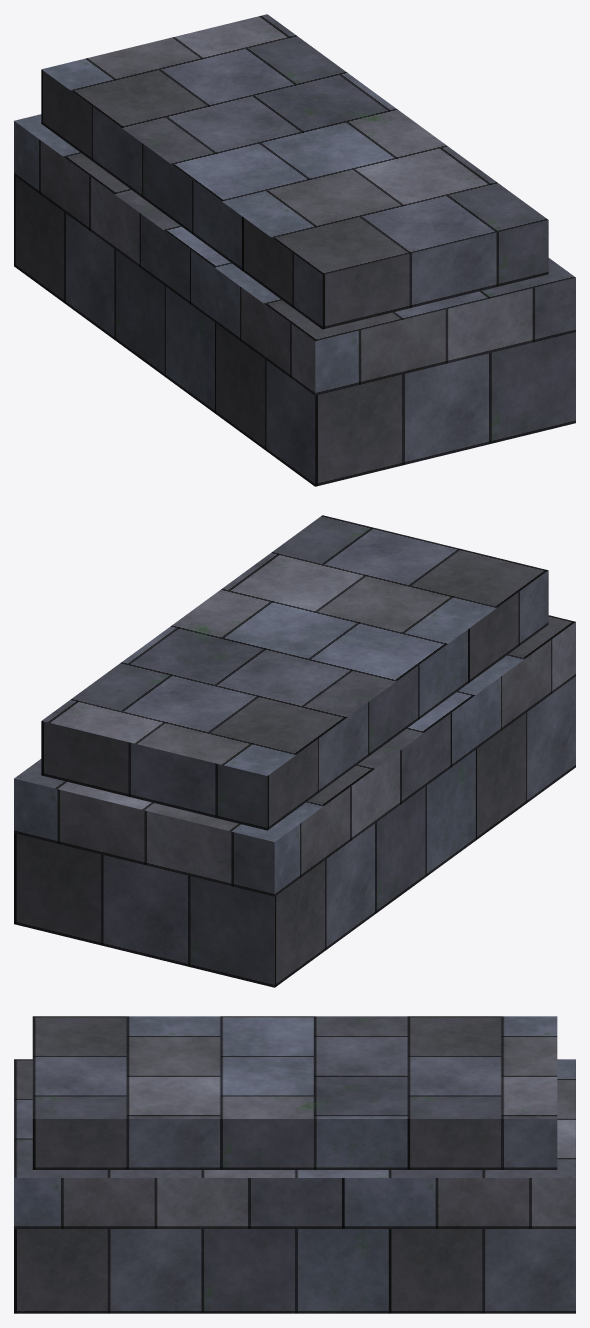
Rendered from SM_dg_sarcophagus.glb.
The picture shows the model from 3 angles, top to bottom: view 1: azimuth 30°, elevation 25°; view 2: azimuth 150°, elevation 25°; view 3: azimuth 270°, elevation 25°; orthographic projection. The views are drawn at different scales.
Visible parts, largest first — view 1: SM_dg_sarcophagus; view 2: SM_dg_sarcophagus; view 3: SM_dg_sarcophagus.
Part boxes in pixels (left/top/right/bottom): SM_dg_sarcophagus: left=14, top=14, right=575, bottom=486; SM_dg_sarcophagus: left=14, top=515, right=575, bottom=987; SM_dg_sarcophagus: left=14, top=1016, right=575, bottom=1313.
Bounding box in the file's own units: 1.5 × 1.1 × 3.
Materials: 1 (1 with a texture image).
